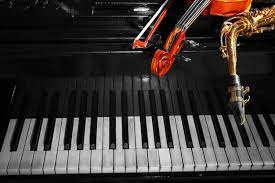Piano: (1, 92, 275, 183)
Saxophone: (214, 1, 275, 135)
Violin: (108, 1, 259, 77)
